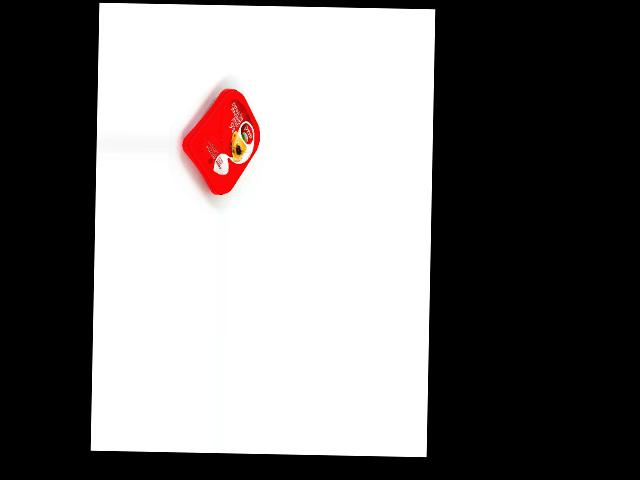cheese: (180, 87, 261, 196)
